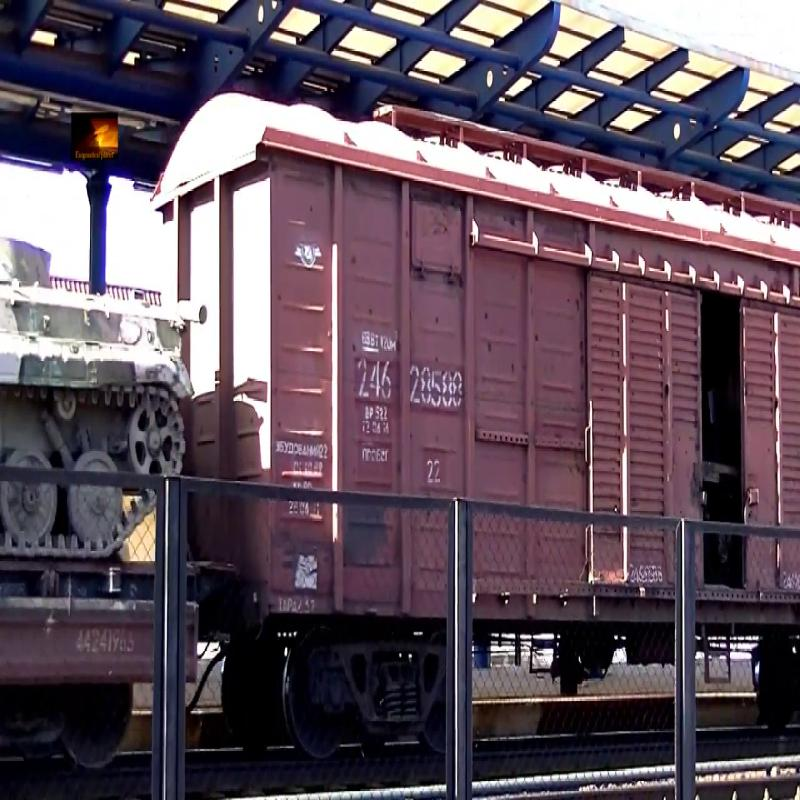train: (193, 5, 800, 769), (1, 6, 172, 772)
